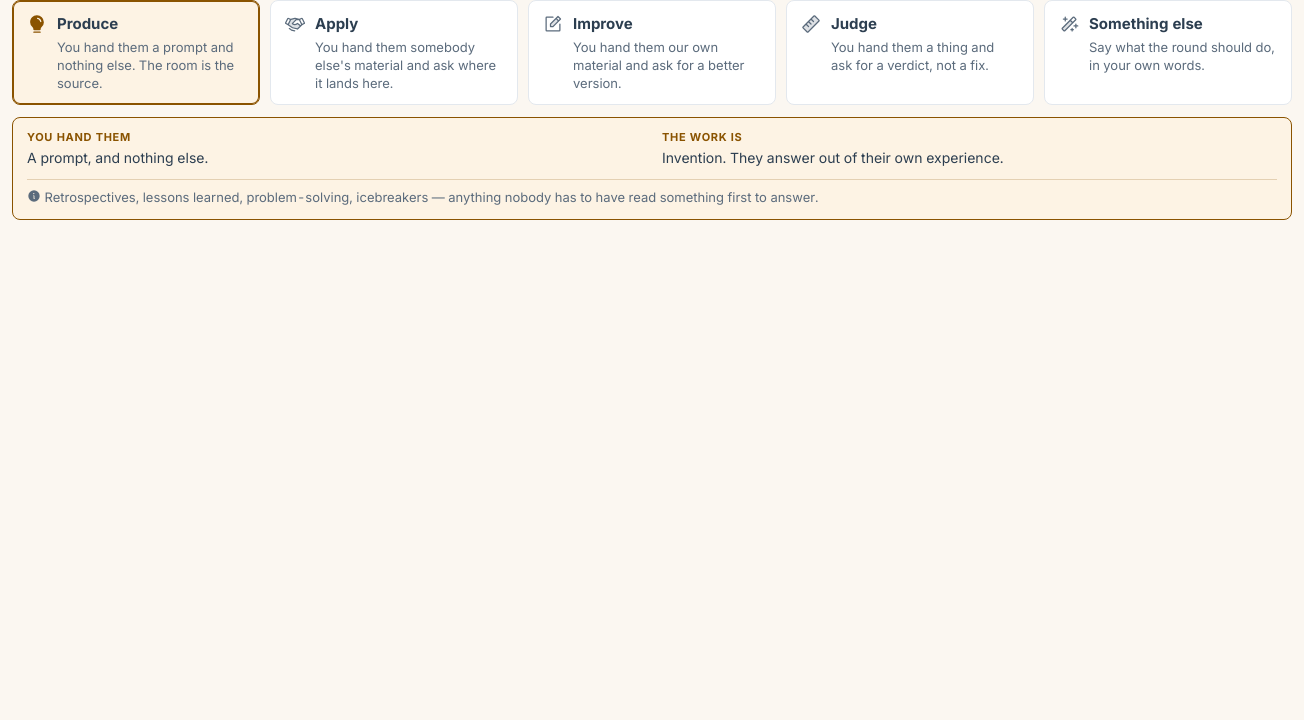
Test: the custom escape hatch › an empty custom direction says which box is missing and why
Click the radio button labelled "Something else" at x=1168, y=53, box [1044, 0, 1292, 105]
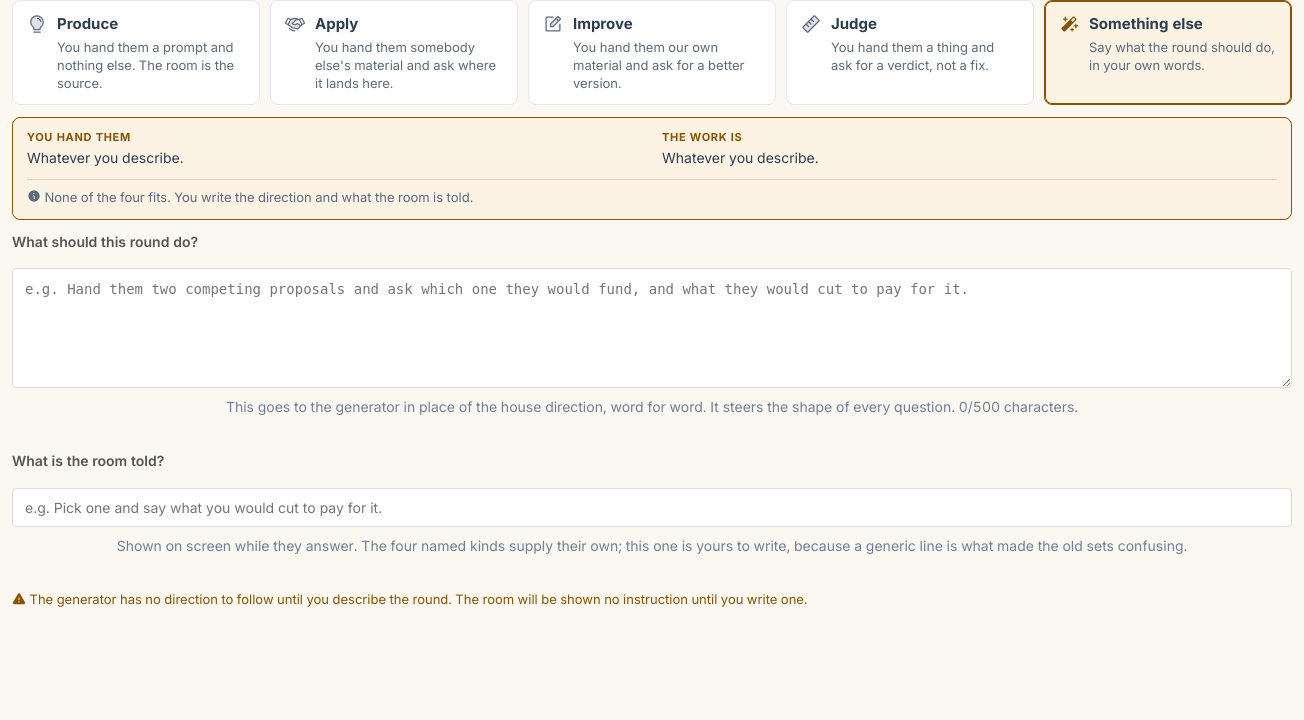
Result: the message shows "no direction to follow" at [30, 591, 455, 607]
Result: the message shows "no instruction" at [455, 591, 807, 607]
Replace the text in the text box labelled "What should this round do?" with "Hand them two proposals and ask which they would fund." at x=652, y=328, box [12, 268, 1292, 388]
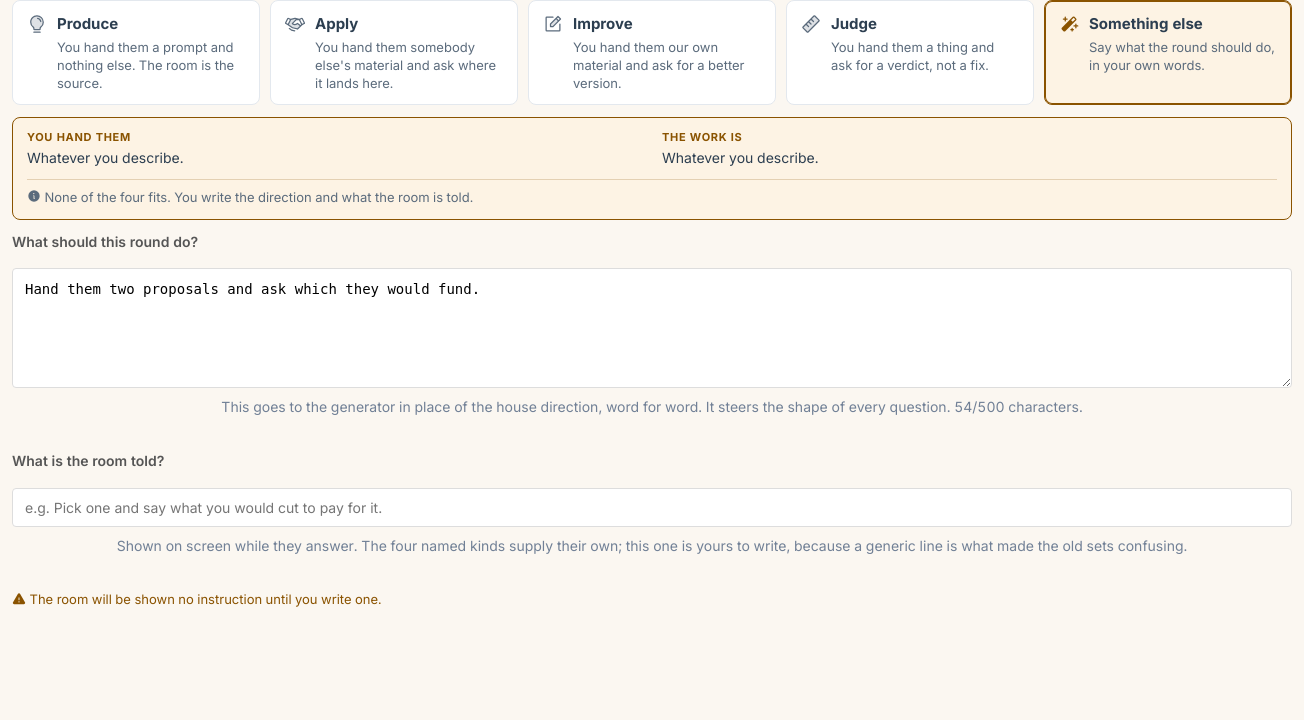
Result: the message shows "no instruction" at [30, 591, 382, 607]
Result: the message no longer shows "no direction to follow" at [12, 591, 382, 607]
